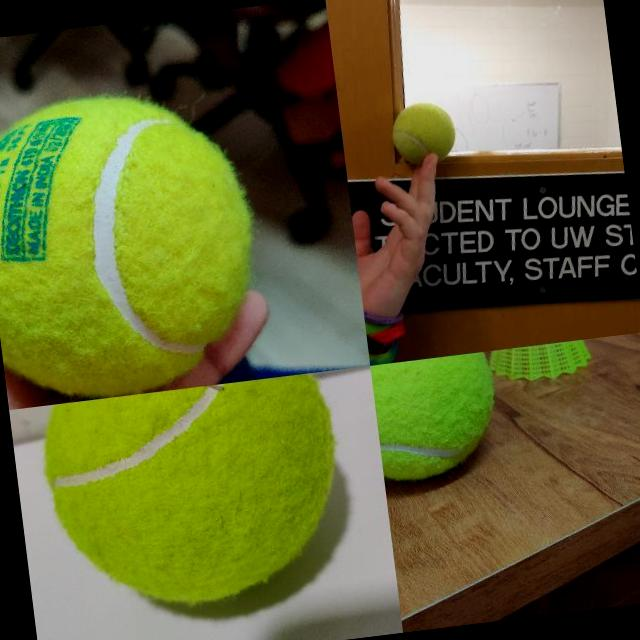Tennis Ball: (0, 82, 268, 409), (33, 370, 358, 625), (370, 351, 501, 482), (388, 98, 458, 168)
